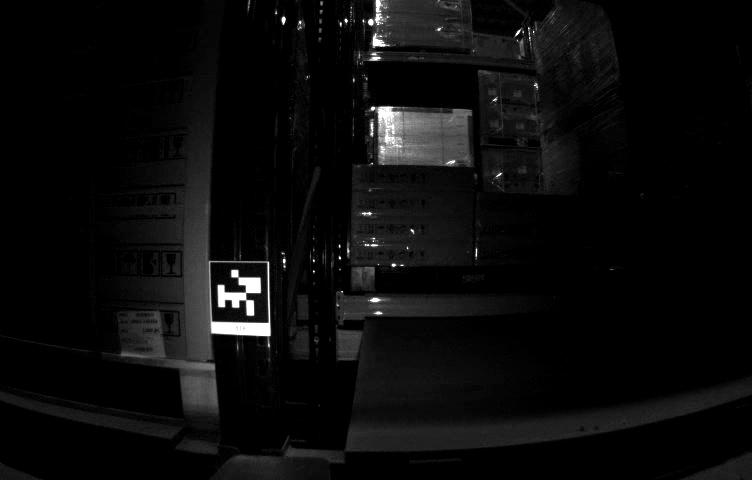True Barcode: (115, 308, 166, 358)
